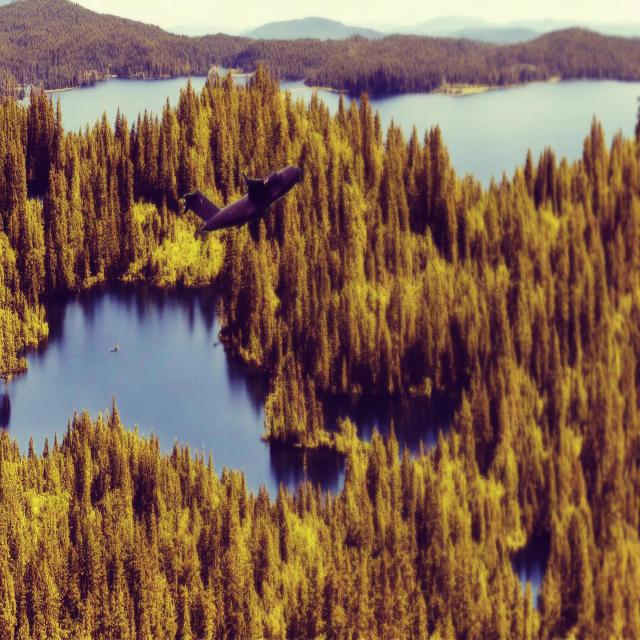airplane: (182, 164, 302, 234)
